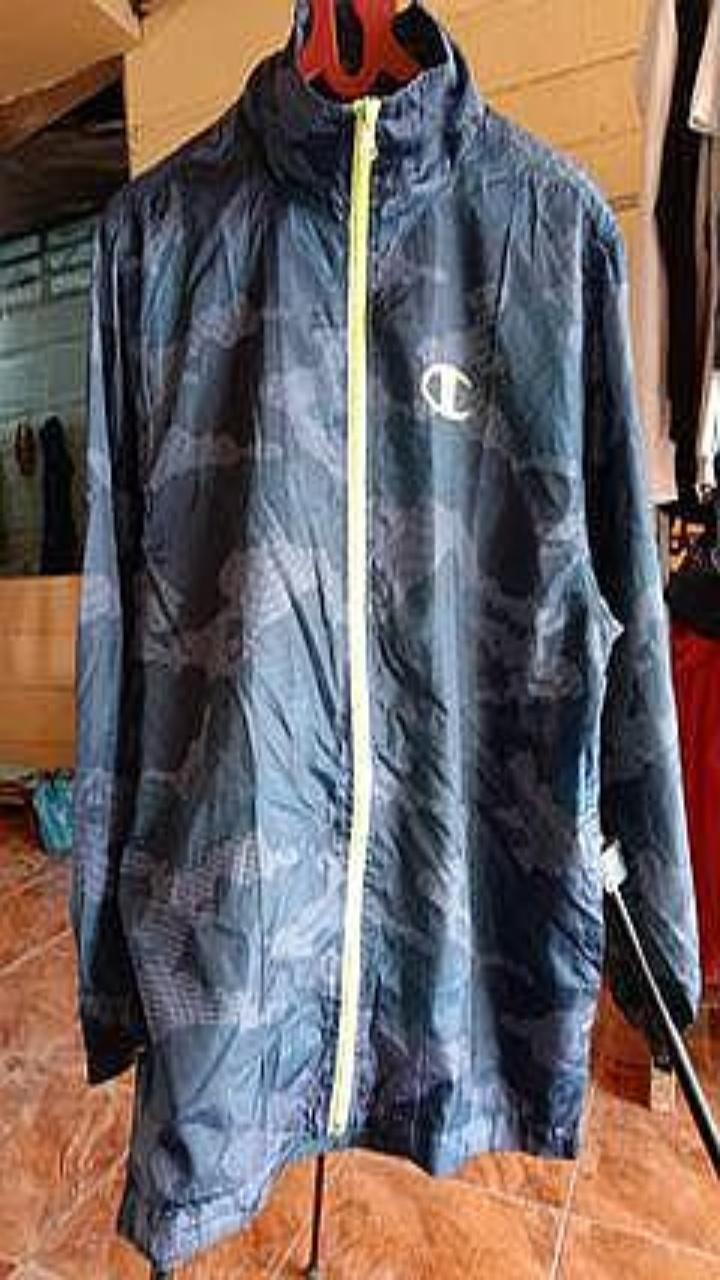Sports_Jacket: (71, 0, 699, 1265)
